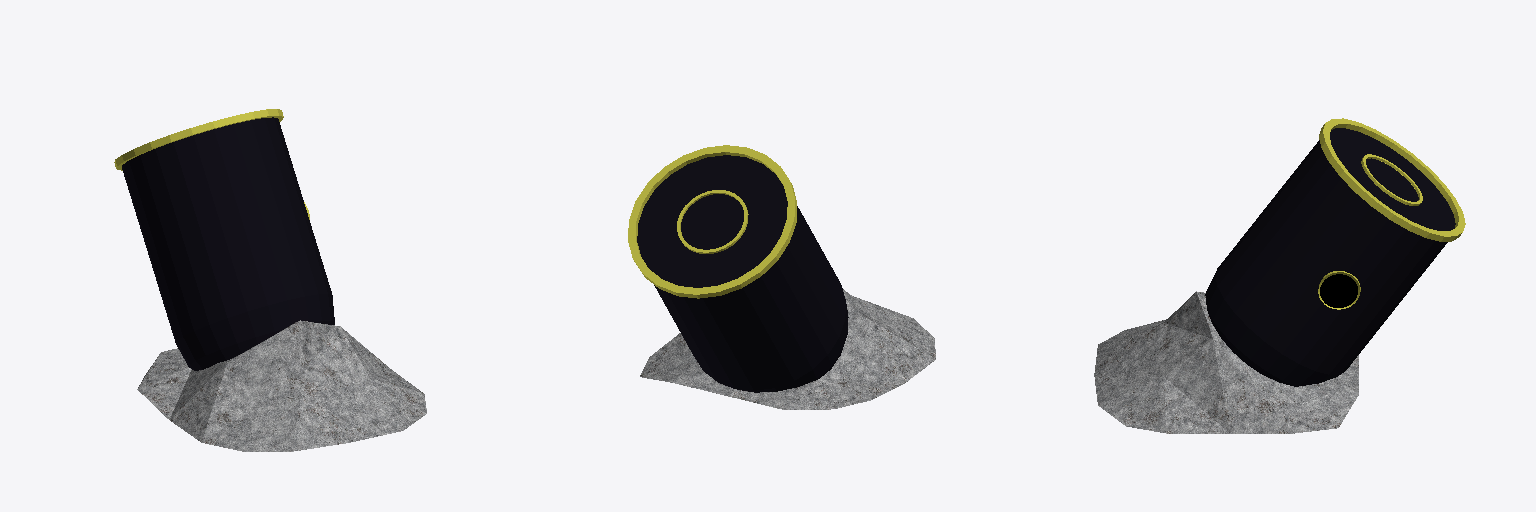
3 views of the same model, side by side, from view 1: azimuth 30°, elevation 25°; view 2: azimuth 150°, elevation 25°; view 3: azimuth 270°, elevation 25° (orthographic).
Visible parts, largest first — view 1: Circle_Circle.003, Plane; view 2: Circle_Circle.003, Plane; view 3: Circle_Circle.003, Plane, Circle.001_Circle.008.
Part boxes in pixels (x1,y1,x2,y2): Circle_Circle.003: (114, 109, 334, 370); Plane: (137, 320, 426, 451); Circle_Circle.003: (628, 145, 848, 392); Plane: (640, 289, 935, 409); Circle_Circle.003: (1205, 118, 1465, 386); Plane: (1094, 291, 1358, 433); Circle.001_Circle.008: (1318, 271, 1360, 309).
Bounding box in the file's own units: 3.13 × 3.34 × 4.52.
4 materials, 1 textured.